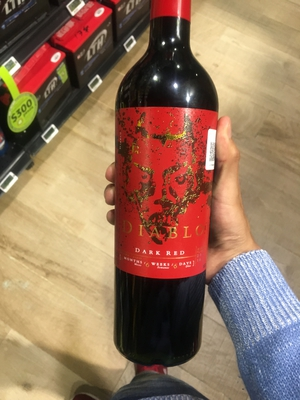diablo dark red: (104, 8, 229, 355)
